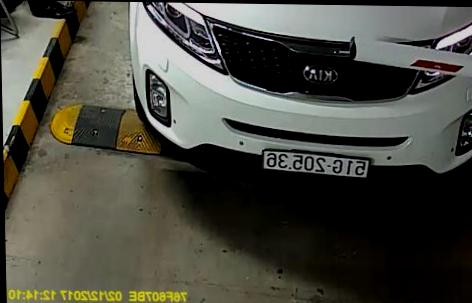License_Plate: (255, 149, 372, 178)
